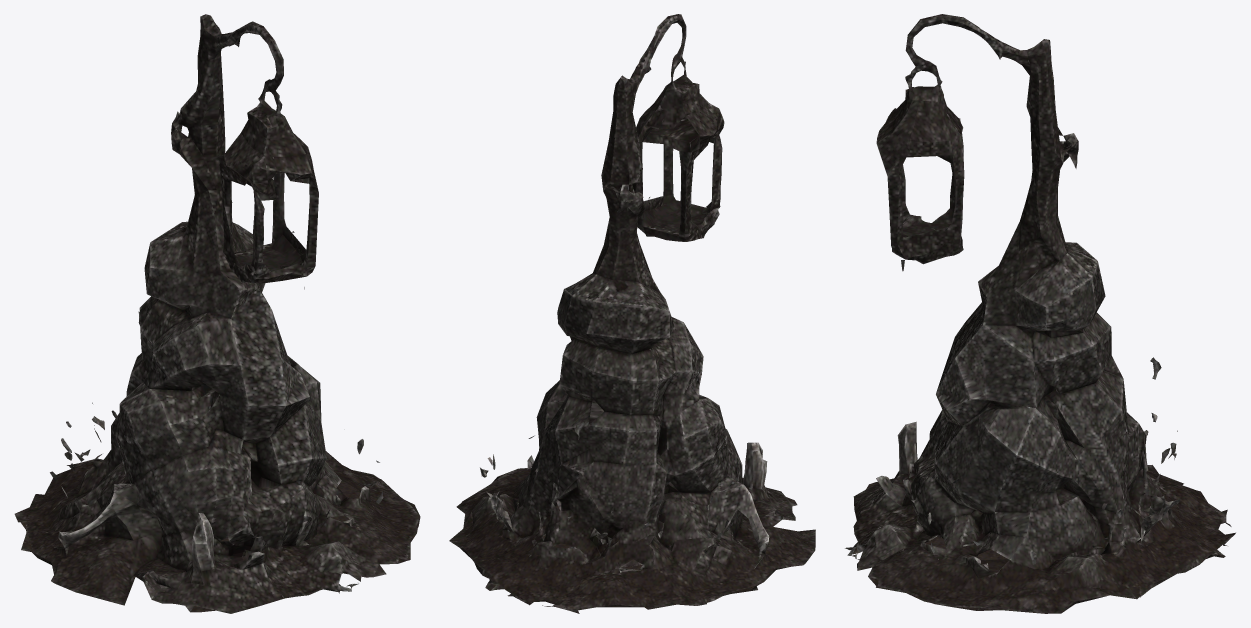
Rendered from b3-waymarker-pixelated.glb.
3 renders of one model, left to right at view 1: azimuth 30°, elevation 25°; view 2: azimuth 150°, elevation 25°; view 3: azimuth 270°, elevation 25°, orthographic. The views are drawn at different scales.
Parts seen in each view (by area): view 1: b3-waymarker.glb; view 2: b3-waymarker.glb; view 3: b3-waymarker.glb.
Boxes of the visible parts, bbox=[...] form: b3-waymarker.glb: bbox=[14, 14, 420, 613]; b3-waymarker.glb: bbox=[449, 14, 815, 613]; b3-waymarker.glb: bbox=[845, 14, 1235, 613].
Size of the model in its own units: 1.29 by 1.88 by 1.28.
1 material, 1 textured.
